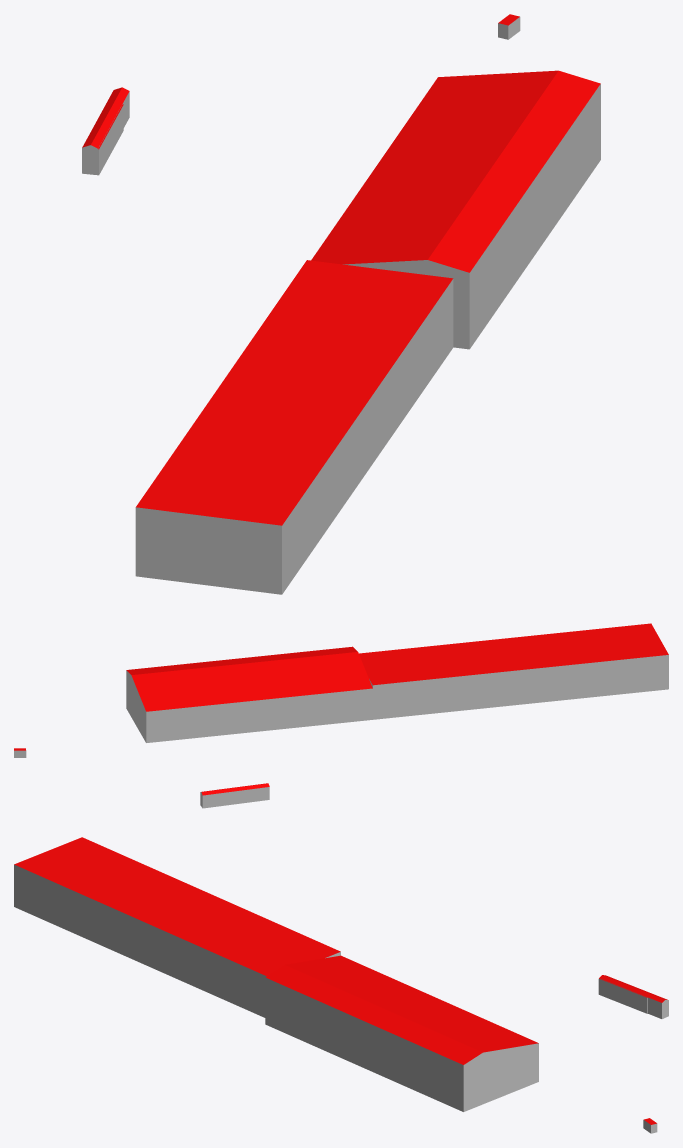
The picture shows the model from 3 angles, top to bottom: view 1: azimuth 30°, elevation 25°; view 2: azimuth 150°, elevation 25°; view 3: azimuth 270°, elevation 25°; orthographic projection. The views are drawn at different scales.
Size of the model in its own units: 205 by 19.47 by 223.
